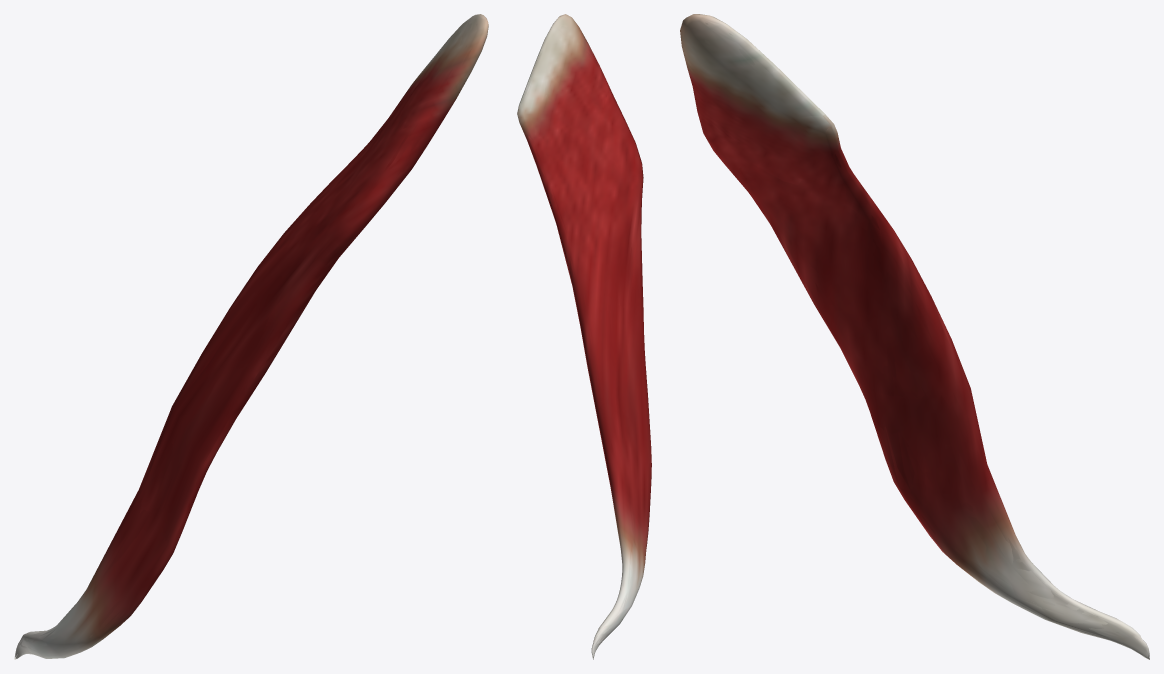
The model's file is R Pectoralis Descendens.fbx.
3 views of the same model, side by side, from view 1: azimuth 30°, elevation 25°; view 2: azimuth 150°, elevation 25°; view 3: azimuth 270°, elevation 25° (orthographic). The views are drawn at different scales.
Visible parts, largest first — view 1: R Pectoralis Descendens, R Pectoralis Descendens low, R Pectoralis Descendens high; view 2: R Pectoralis Descendens, R Pectoralis Descendens low, R Pectoralis Descendens high; view 3: R Pectoralis Descendens, R Pectoralis Descendens low, R Pectoralis Descendens high.
Part boxes in pixels (bbox=[...]): R Pectoralis Descendens: bbox=[14, 14, 488, 659]; R Pectoralis Descendens low: bbox=[15, 15, 488, 658]; R Pectoralis Descendens high: bbox=[15, 17, 482, 658]; R Pectoralis Descendens: bbox=[517, 14, 651, 659]; R Pectoralis Descendens low: bbox=[519, 15, 651, 658]; R Pectoralis Descendens high: bbox=[524, 20, 651, 654]; R Pectoralis Descendens: bbox=[680, 14, 1149, 659]; R Pectoralis Descendens low: bbox=[682, 14, 1149, 658]; R Pectoralis Descendens high: bbox=[688, 22, 1147, 655].
Size of the model in its own units: 2.52 by 6.5 by 3.56.
1 material, 1 textured.
